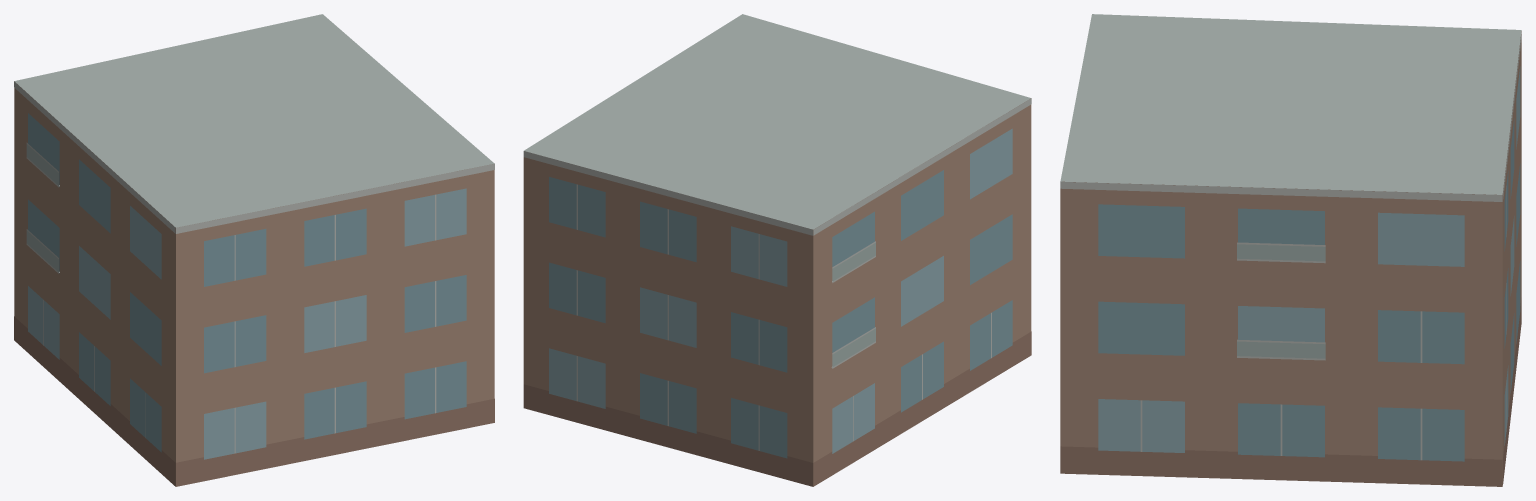
File: survey-upis-33017578.glb
3 renders of one model, left to right at view 1: azimuth 30°, elevation 25°; view 2: azimuth 150°, elevation 25°; view 3: azimuth 270°, elevation 25°, orthographic. The views are drawn at different scales.
Parts seen in each view (by area): view 1: survey-upis-33017578.tmp; view 2: survey-upis-33017578.tmp; view 3: survey-upis-33017578.tmp.
Boxes of the visible parts, x1=… form: survey-upis-33017578.tmp: x1=14, y1=14, x2=494, y2=486; survey-upis-33017578.tmp: x1=523, y1=14, x2=1031, y2=486; survey-upis-33017578.tmp: x1=1060, y1=14, x2=1521, y2=486.
Size of the model in its own units: 13.3 by 10 by 14.33.
